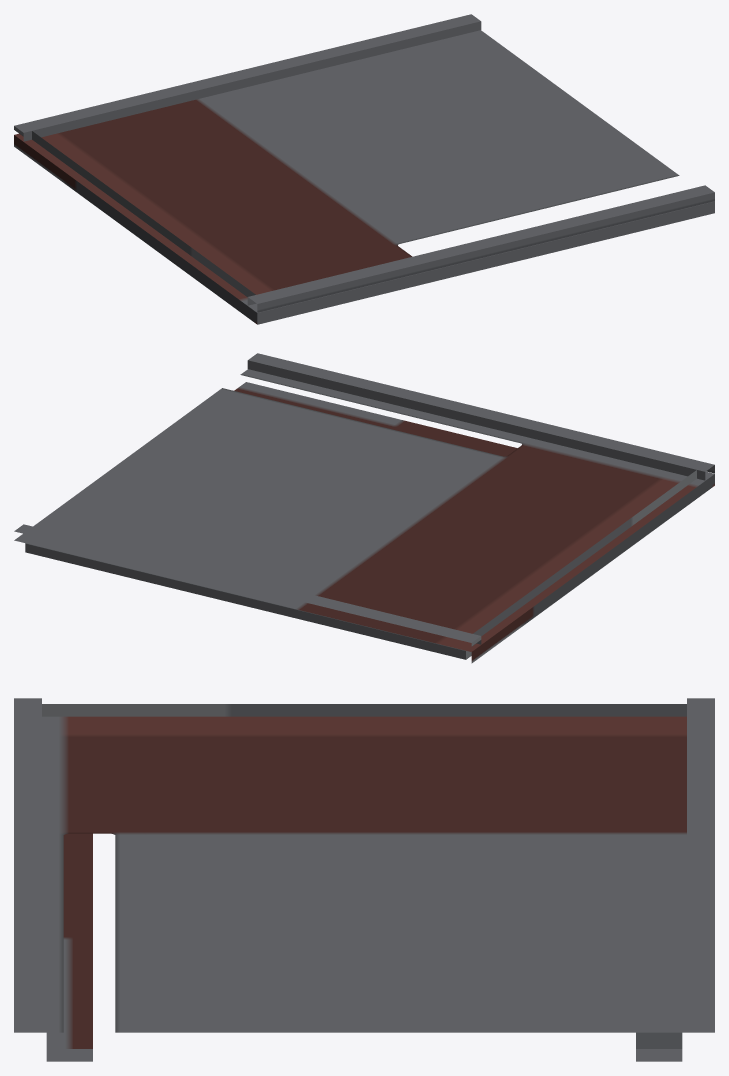
Rendered from section-0.obj.
3 views of the same model, one above another, from view 1: azimuth 30°, elevation 25°; view 2: azimuth 150°, elevation 25°; view 3: azimuth 270°, elevation 25° (orthographic). The views are drawn at different scales.
Bounding box in the file's own units: 0.833 × 0.0995 × 0.754.
